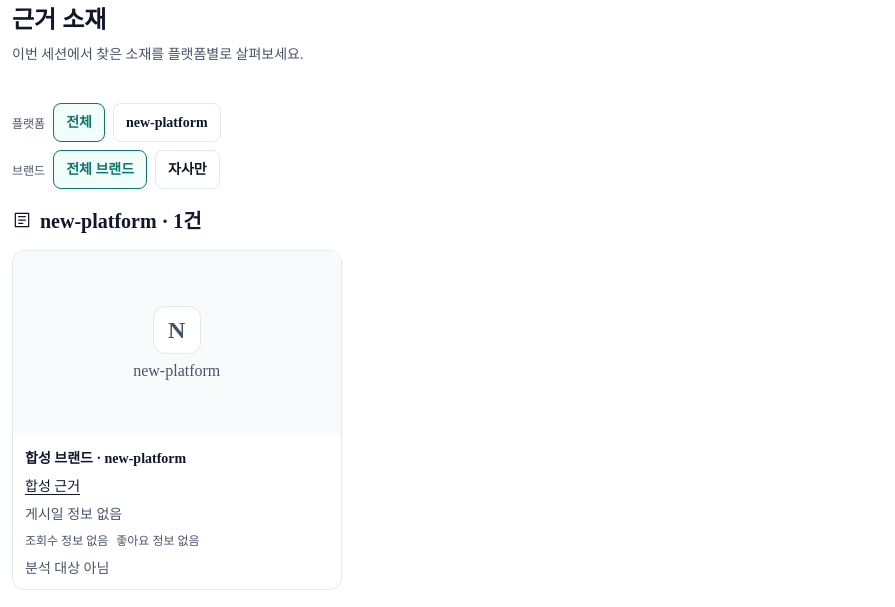
offers the plan action for empty sessions and empty filters, deduplicates across turns and retains unknown platforms
Earlier steps of the test are not shown.
Expected: the heading "new-platform · 1건" is shown, [12,210,202,232]
Click the button "자사만".
click(187, 170)  # box [155,150,220,189]
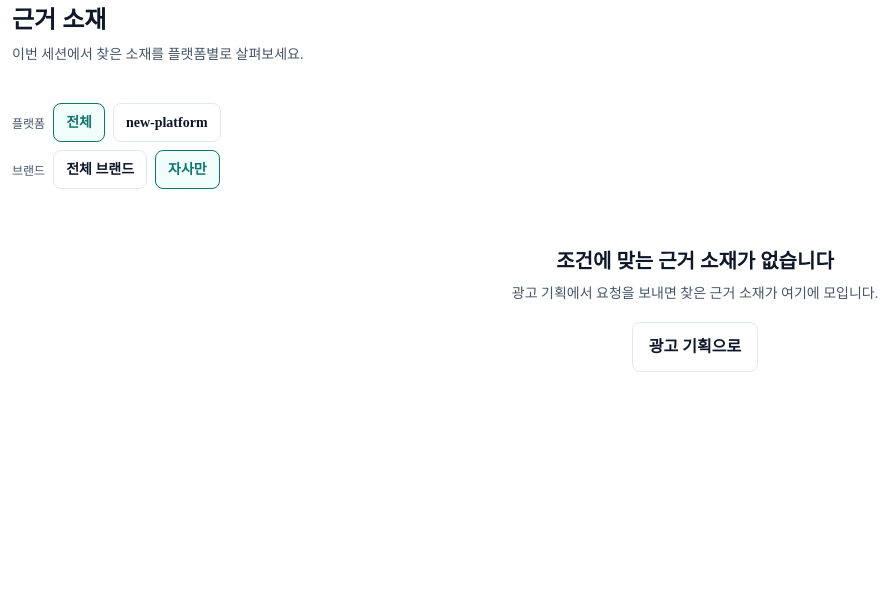
Expected: the heading "조건에 맞는 근거 소재가 없습니다" is shown, [556,250,834,272]
Expected: the button "광고 기획으로" is shown, [632,322,758,372]
